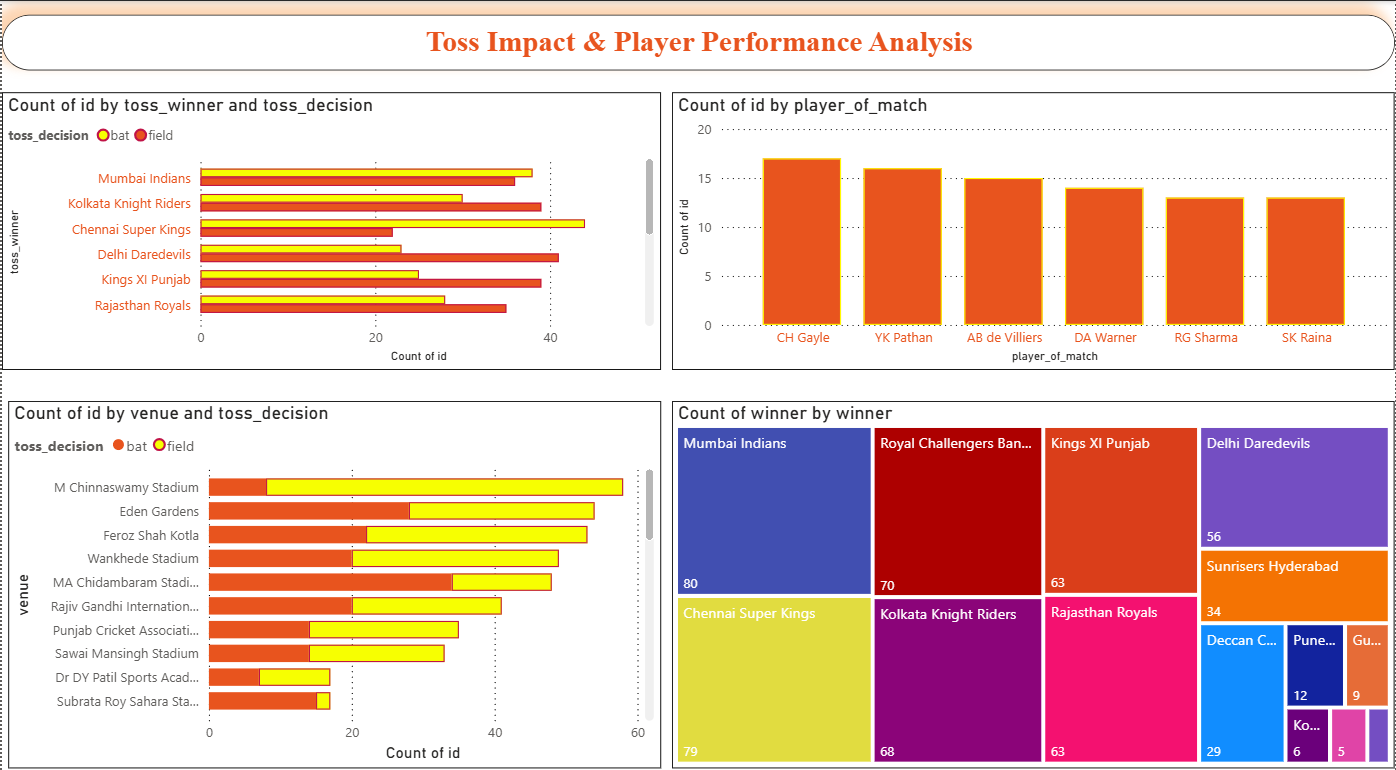

The page's visual inventory and layout, read from the dashboard file:
{"tool":"powerbi","page":{"name":"Page 1","canvas":[1280,720],"ordinal":0},"visuals":[{"type":"barChart","fields":{"Category":["ipl_dataset (1).venue"],"Series":["ipl_dataset (1).toss_decision"],"Y":["CountNonNull(ipl_dataset (1).id)"]},"box":[6.2,338.8,598.8,366.2],"z":0},{"type":"clusteredBarChart","fields":{"Category":["ipl_dataset (1).toss_winner"],"Y":["CountNonNull(ipl_dataset (1).id)"],"Series":["ipl_dataset (1).toss_decision"]},"box":[6.2,83.8,598.8,250],"z":1000},{"type":"columnChart","fields":{"Category":["ipl_dataset (1).player_of_match"],"Y":["CountNonNull(ipl_dataset (1).id)"]},"box":[616.2,83.8,647.5,236.2],"z":2000},{"type":"treemap","fields":{"Group":["ipl_dataset (1).winner"],"Values":["CountNonNull(ipl_dataset (1).winner)"]},"box":[616.2,323.8,663.8,381.2],"z":3000},{"type":"textbox","title":"Toss Impact & Player Performance Analysis","box":[0,12.5,1280,51.2],"z":4000}]}

Visuals, with their boxes in screenshot pixels (x1, y1, x2, y2), scaled from the page's 1280x720 canvas onto the 1396x770 screenshot:
barChart - ipl_dataset (1).venue x ipl_dataset (1).toss_decision: 7,362,660,754
clusteredBarChart - ipl_dataset (1).toss_winner x CountNonNull(ipl_dataset (1).id): 7,90,660,357
columnChart - ipl_dataset (1).player_of_match x CountNonNull(ipl_dataset (1).id): 672,90,1378,342
treemap - ipl_dataset (1).winner x CountNonNull(ipl_dataset (1).winner): 672,346,1395,754
"Toss Impact & Player Performance Analysis" textbox: 0,13,1395,68
